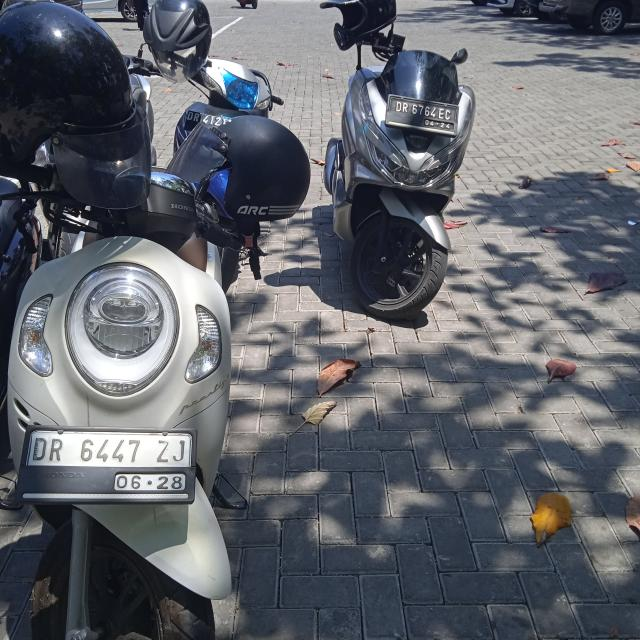plate: (24, 426, 195, 496), (384, 94, 463, 139)
